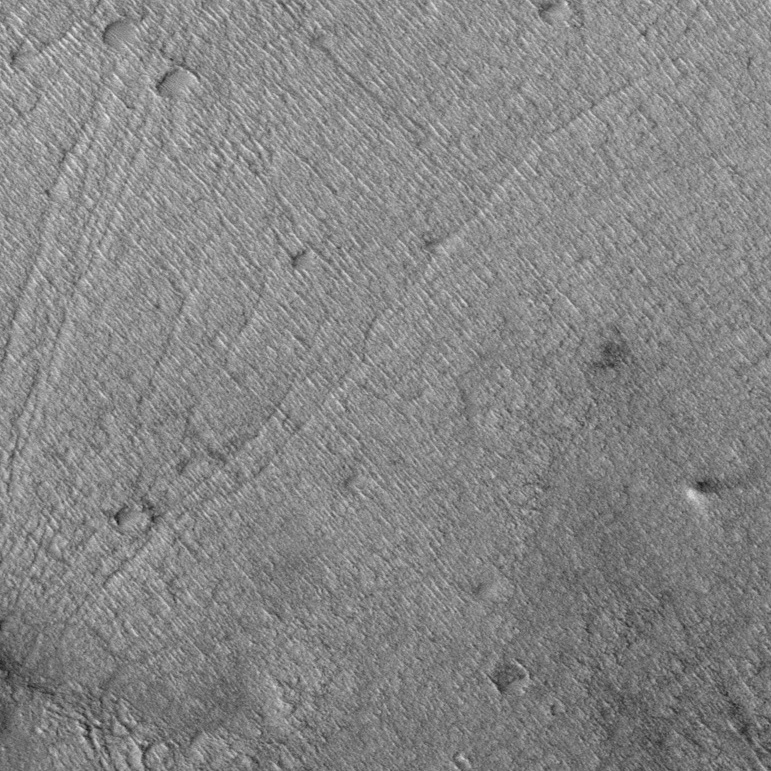dust_devil: (685, 476, 739, 508)
